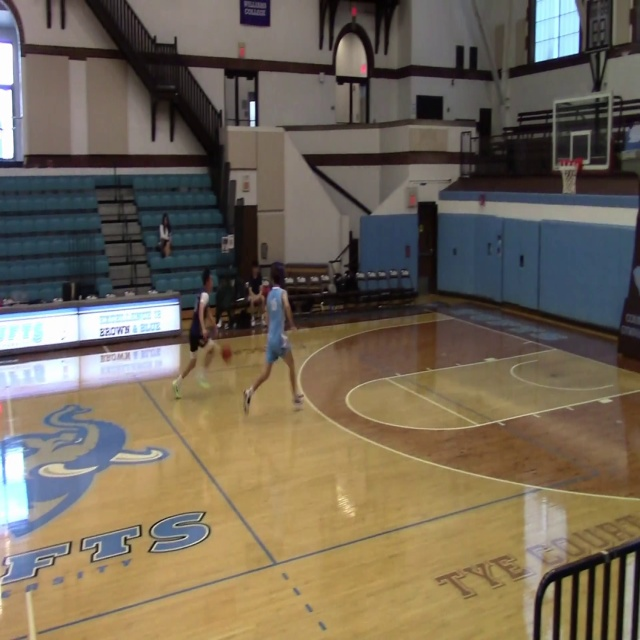Basketball: (221, 346, 232, 360), (260, 284, 270, 297)
